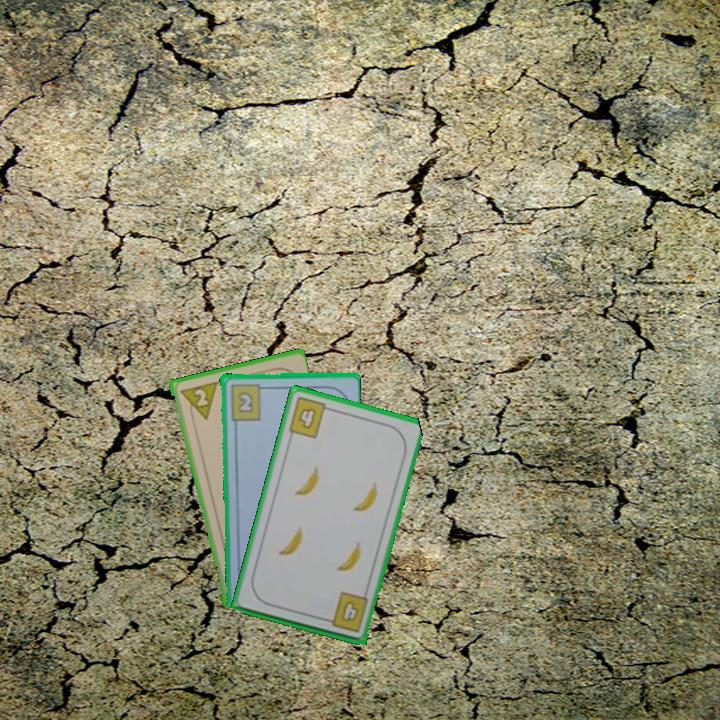2b: (227, 380, 269, 423)
2p: (190, 385, 210, 409)
4b: (285, 393, 335, 441), (321, 588, 371, 635)
